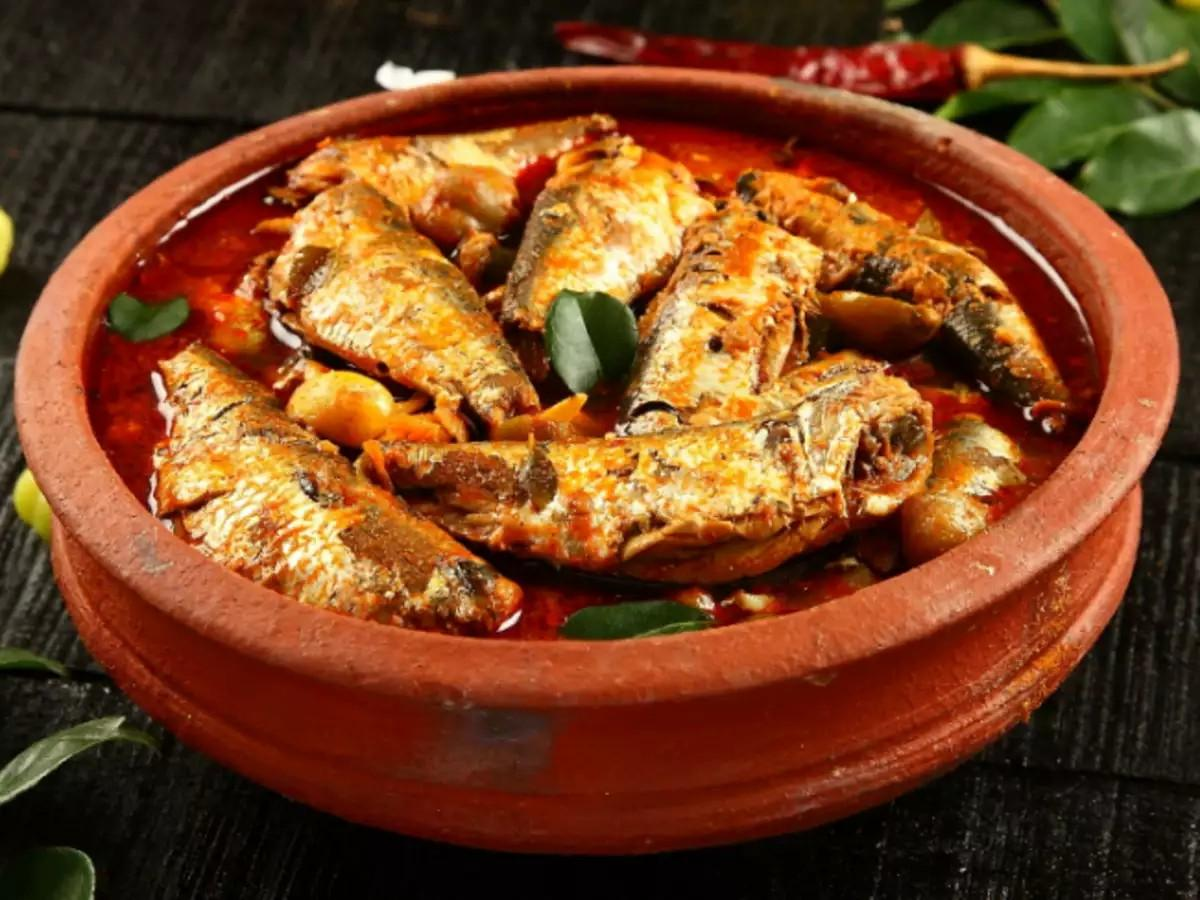FishCurry: (98, 104, 1094, 641)
